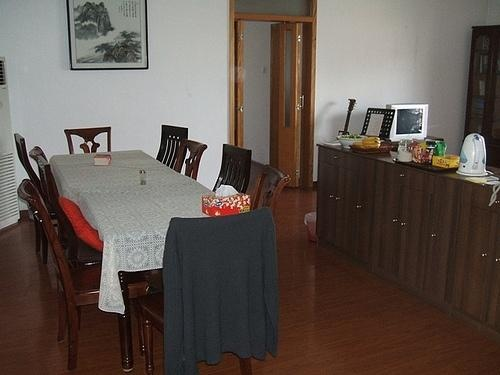chair: (17, 179, 152, 373), (133, 207, 271, 375), (36, 156, 104, 269), (14, 133, 61, 266), (249, 161, 291, 216), (213, 144, 252, 195), (172, 137, 209, 182), (157, 124, 190, 171), (64, 128, 113, 155)
diningtable: (48, 150, 216, 375)
tvmonitor: (386, 104, 429, 140)
